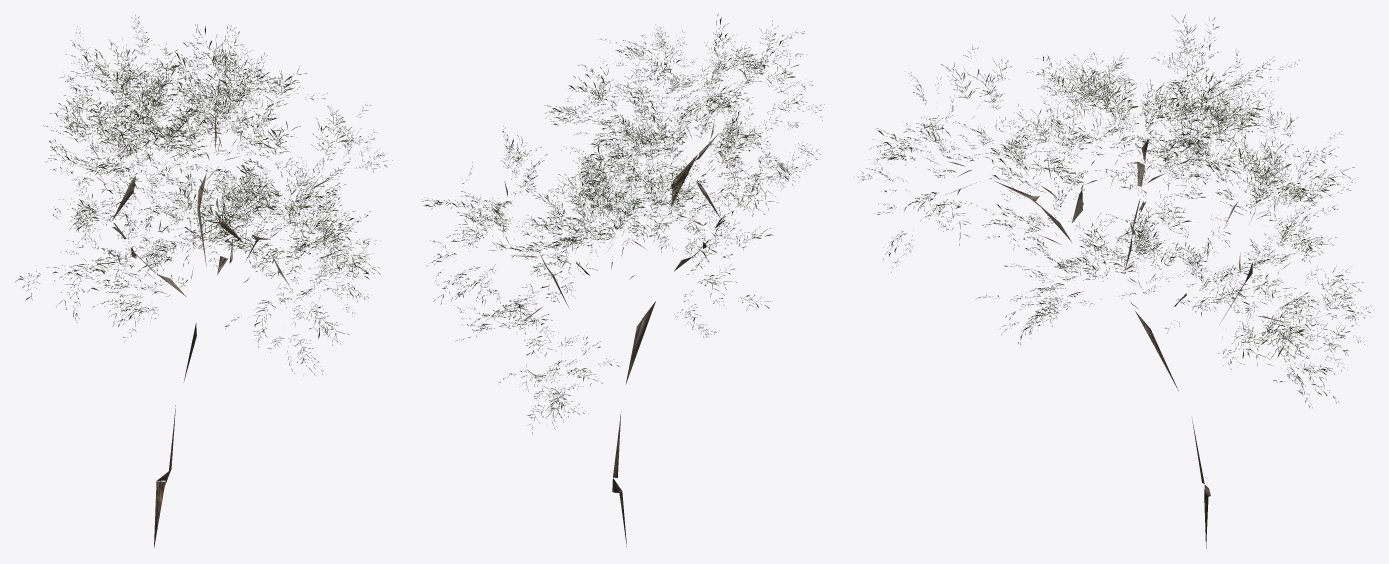
The model's file is tree_small_02.glb.
3 views of the same model, side by side, from view 1: azimuth 30°, elevation 25°; view 2: azimuth 150°, elevation 25°; view 3: azimuth 270°, elevation 25° (orthographic). The views are drawn at different scales.
Visible parts, largest first — view 1: tree_small_02_LOD0; view 2: tree_small_02_LOD0; view 3: tree_small_02_LOD0.
Part boxes in pixels (box(x1,y1,x2,y2)): tree_small_02_LOD0: box(15, 15, 392, 547); tree_small_02_LOD0: box(422, 14, 824, 546); tree_small_02_LOD0: box(857, 14, 1371, 548).
Bounding box in the file's own units: 2.87 × 4.5 × 4.27.
3 materials, 3 textured.
